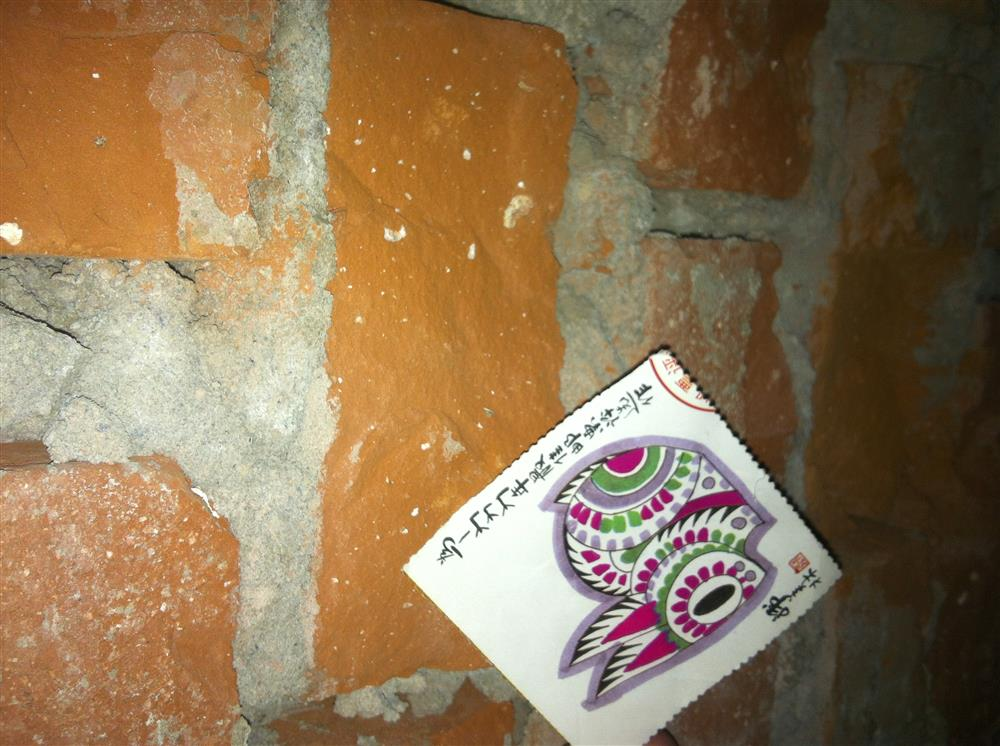stamp: (401, 346, 845, 740)
